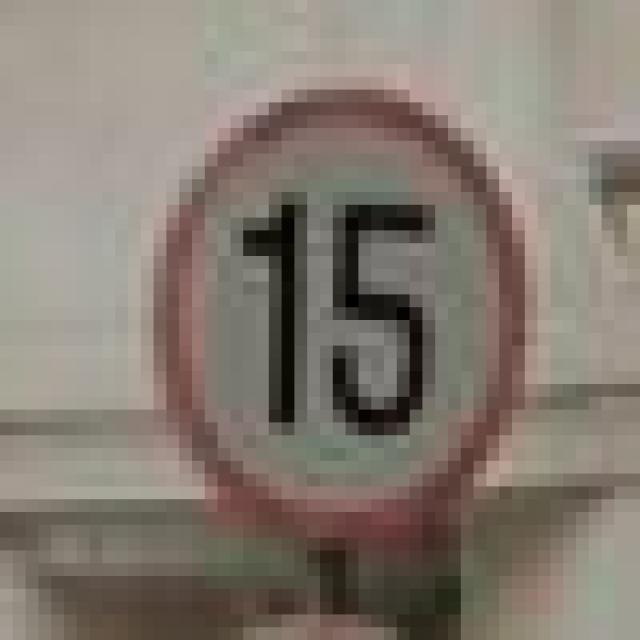SPEED_LIMIT_15: (141, 77, 525, 525)
